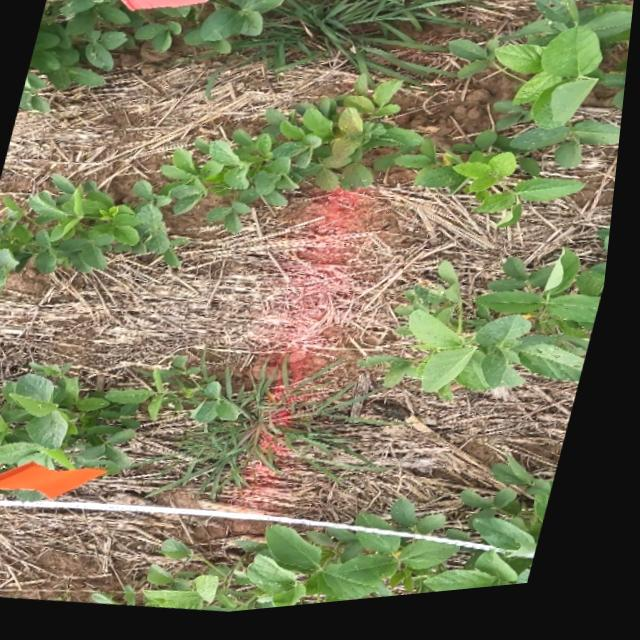grassy_weed: (149, 361, 401, 499), (242, 0, 471, 91)
soy_plant: (165, 0, 634, 238), (106, 467, 565, 618), (372, 262, 614, 407), (21, 0, 285, 112), (0, 177, 183, 292), (0, 365, 169, 477), (366, 507, 457, 544), (369, 540, 413, 564), (430, 554, 468, 579), (605, 242, 616, 267)
